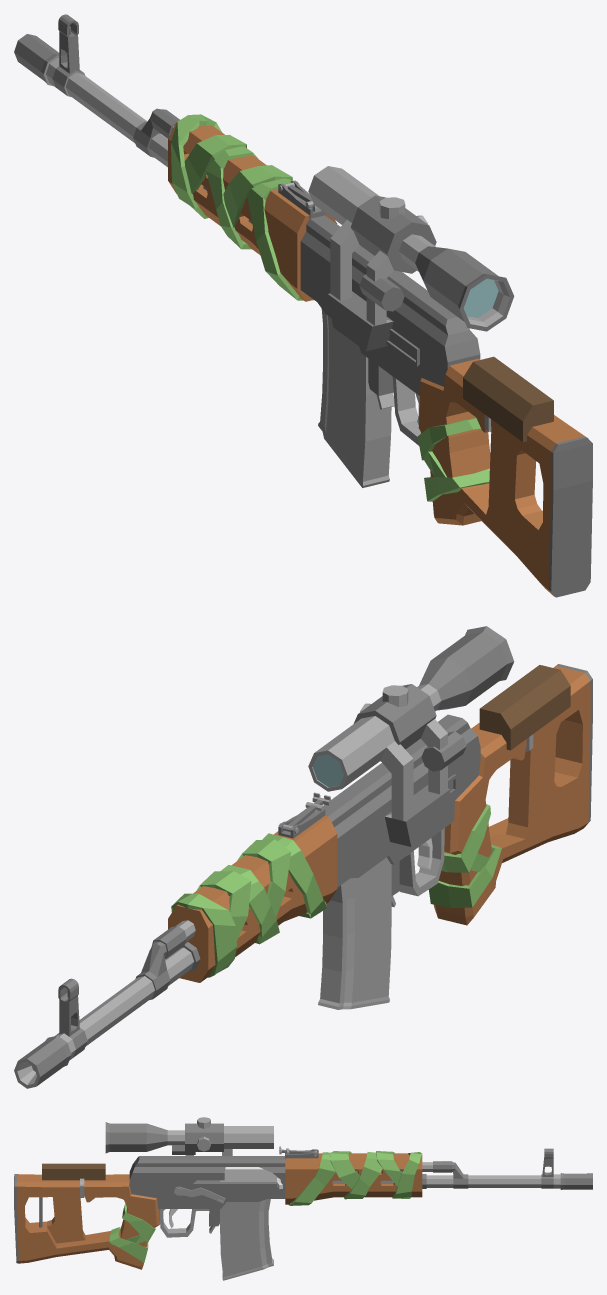
The picture shows the model from 3 angles, top to bottom: view 1: azimuth 30°, elevation 25°; view 2: azimuth 150°, elevation 25°; view 3: azimuth 270°, elevation 25°; orthographic projection. The views are drawn at different scales.
Visible parts, largest first — view 1: SVD, Scope, Camoflage, Magazine; view 2: SVD, Scope, Camoflage, Magazine; view 3: SVD, Camoflage, Scope, Magazine, Bolt, Safety.
Boxes of the visible parts, x1,y1,x2,y2 form: SVD: (14,14,592,597); Scope: (308,166,514,351); Camoflage: (171,114,489,501); Magazine: (318,309,391,487); SVD: (14,664,592,1088); Scope: (308,626,514,846); Camoflage: (171,804,501,977); Magazine: (318,857,391,1009); SVD: (14,1148,592,1269); Camoflage: (109,1151,422,1262); Scope: (105,1117,273,1155); Magazine: (220,1199,273,1280); Bolt: (220,1167,282,1189); Safety: (173,1186,225,1203).
Size of the model in its own units: 10.26 by 36.3 by 121.
